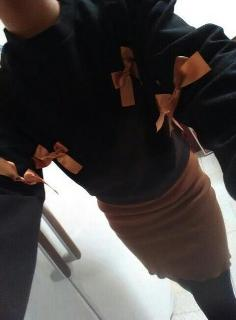long sleeve top: (0, 0, 236, 319)
skirt: (96, 147, 232, 282)
